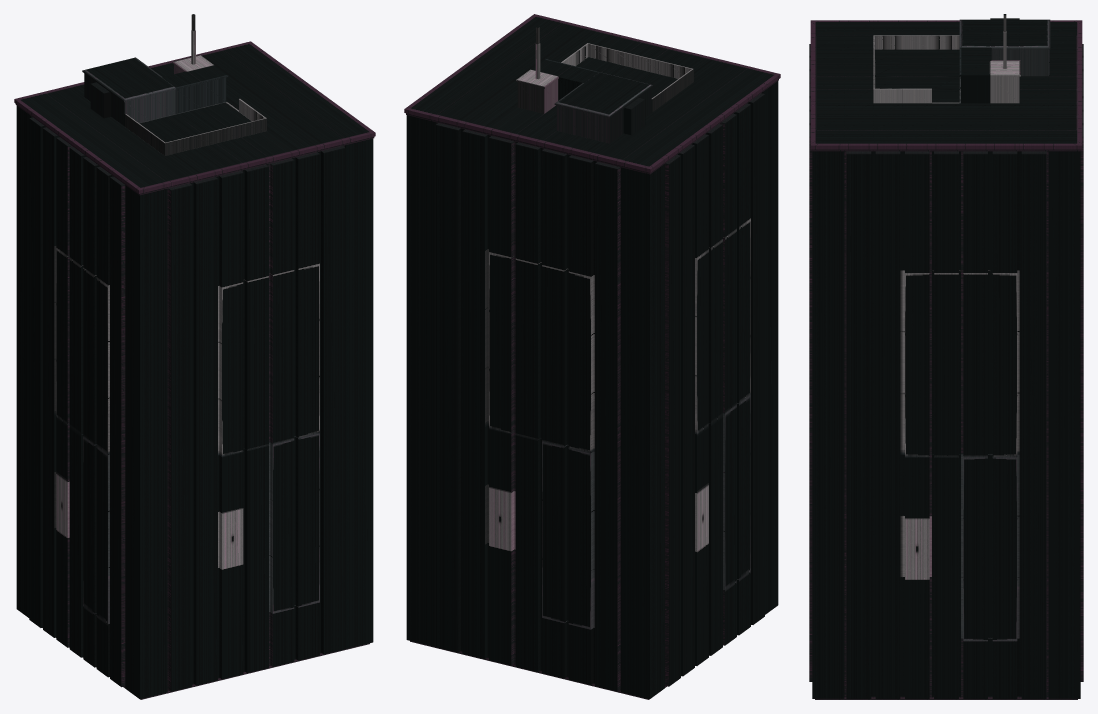
File: Building1.obj
The picture shows the model from 3 angles, left to right: view 1: azimuth 30°, elevation 25°; view 2: azimuth 150°, elevation 25°; view 3: azimuth 270°, elevation 25°; orthographic projection. The views are drawn at different scales.
Parts seen in each view (by area): view 1: Highrise_15; view 2: Highrise_15; view 3: Highrise_15.
Boxes of the visible parts, left/top/right/bottom form: Highrise_15: left=14, top=14, right=375, bottom=699; Highrise_15: left=404, top=14, right=780, bottom=699; Highrise_15: left=809, top=14, right=1083, bottom=699.
Bounding box in the file's own units: 1.58 × 3.71 × 1.44.
